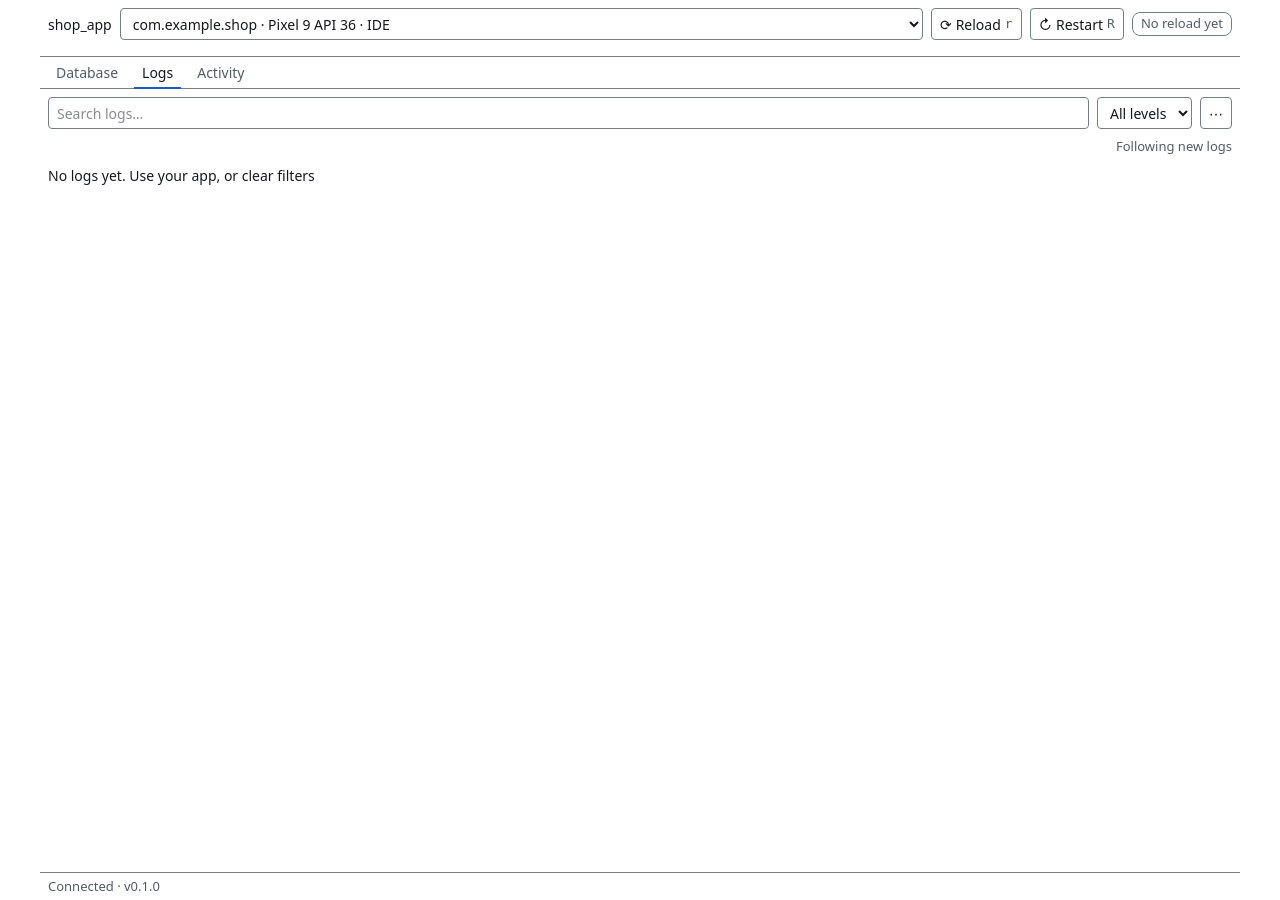
Test: App picker › Disabled: while attach runs, with a spinner
The width and height of the screenshot is (1280, 900).
Check: the text "shop_app" is shown, box x1=48 y1=14 x2=112 y2=34
Select "com.example.admin · Pixel 9 API 36 · terminal" in the dropdown named "App" at (521, 24), box x1=120 y1=8 x2=923 y2=40
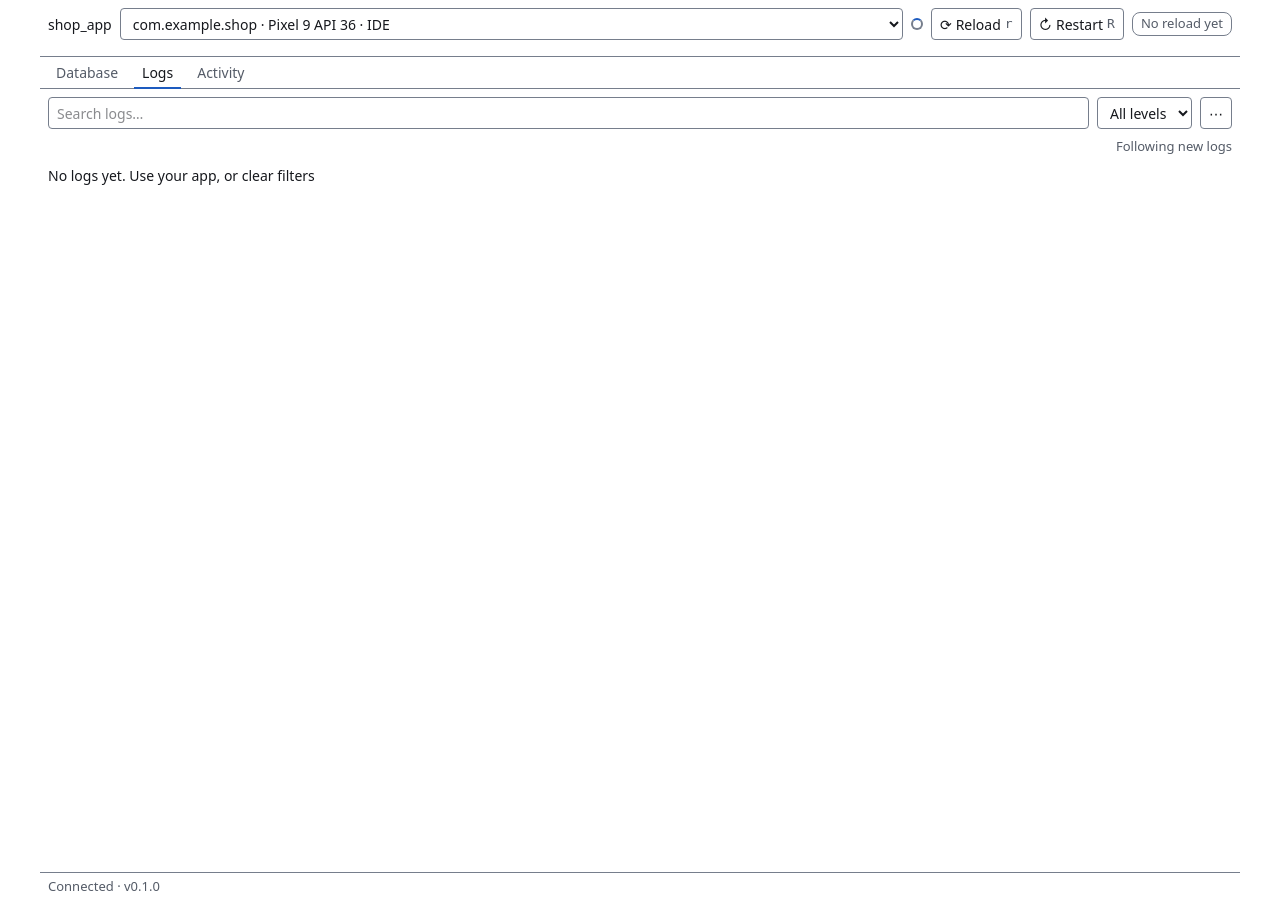
Check: the dropdown named "App" is disabled, box x1=120 y1=8 x2=903 y2=40
